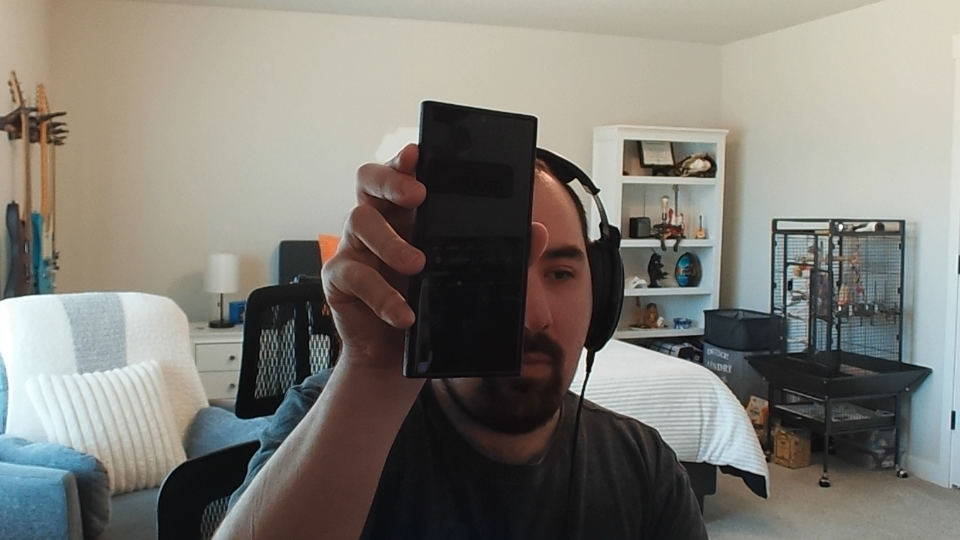MobilePhone: (401, 100, 540, 379)
